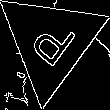P_SW: (23, 11, 78, 74)
